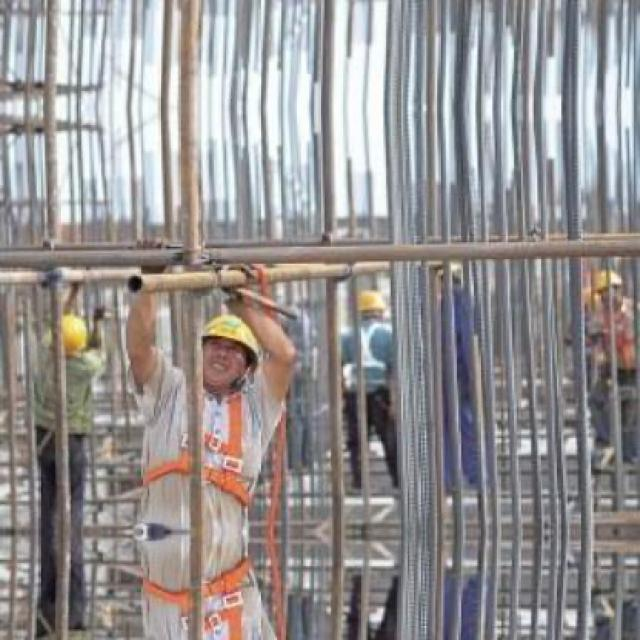helmet: (192, 306, 265, 391), (51, 307, 91, 362), (343, 284, 391, 324)
